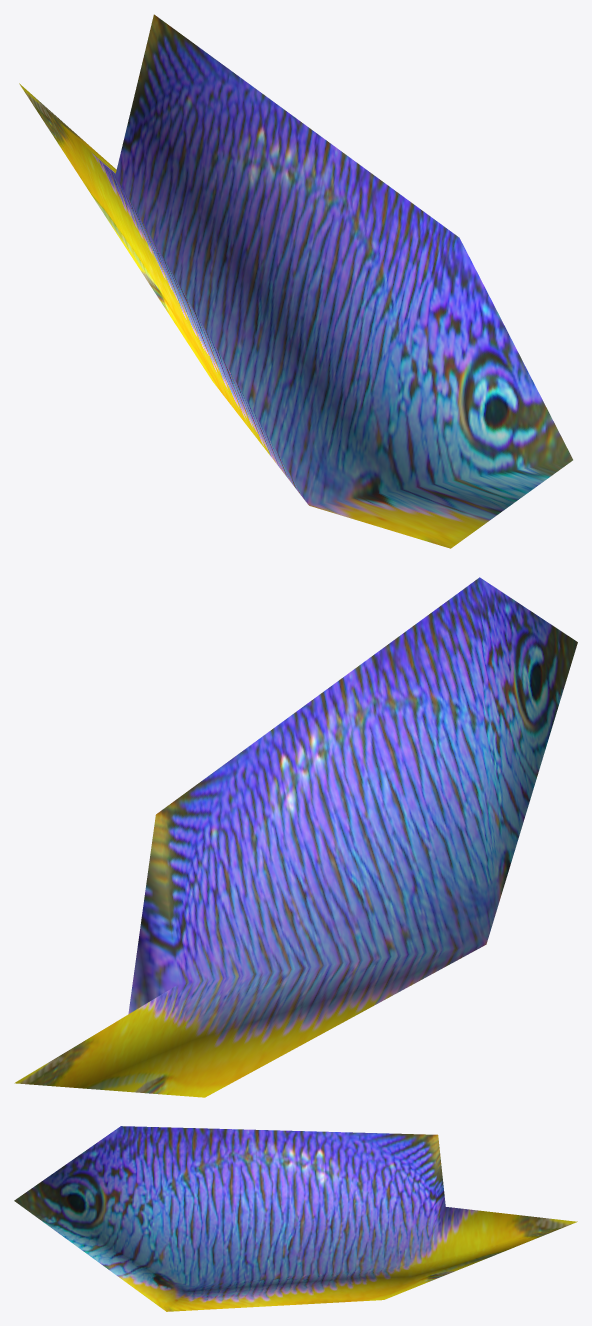
Rendered from TropicalFish07.fbx.
3 views of the same model, one above another, from view 1: azimuth 30°, elevation 25°; view 2: azimuth 150°, elevation 25°; view 3: azimuth 270°, elevation 25° (orthographic). The views are drawn at different scales.
Visible parts, largest first — view 1: TropicalFish07_Export; view 2: TropicalFish07_Export; view 3: TropicalFish07_Export.
Part boxes in pixels (box(x1,y1,x2,y2)): TropicalFish07_Export: box(19, 14, 572, 548); TropicalFish07_Export: box(14, 577, 577, 1097); TropicalFish07_Export: box(14, 1126, 577, 1311).
Bounding box in the file's own units: 0.061 × 0.0944 × 0.2731.
